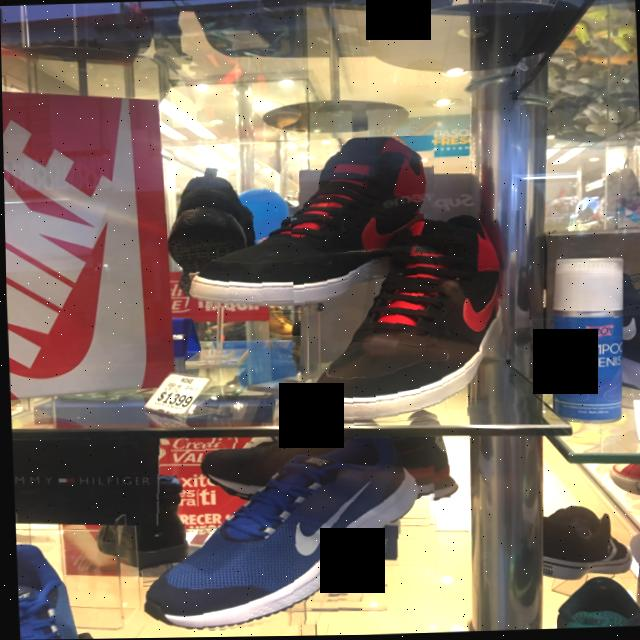shoe: (136, 438, 440, 634), (289, 211, 533, 430), (177, 136, 439, 310)
